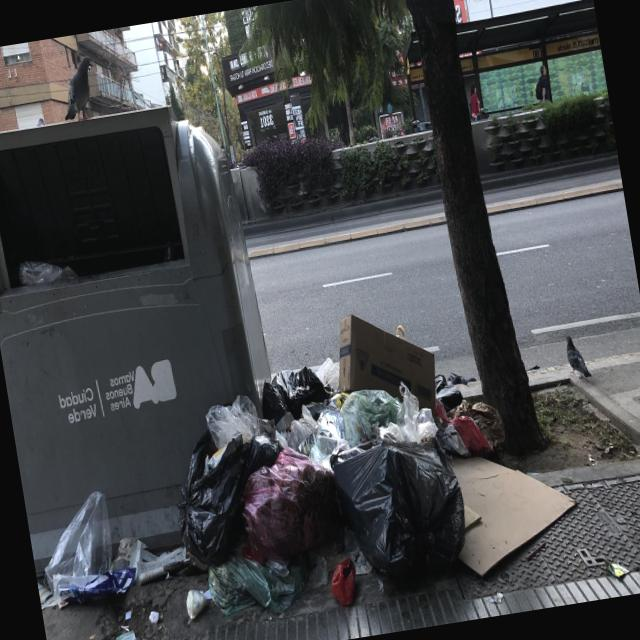garbage: (1, 269, 579, 640)
